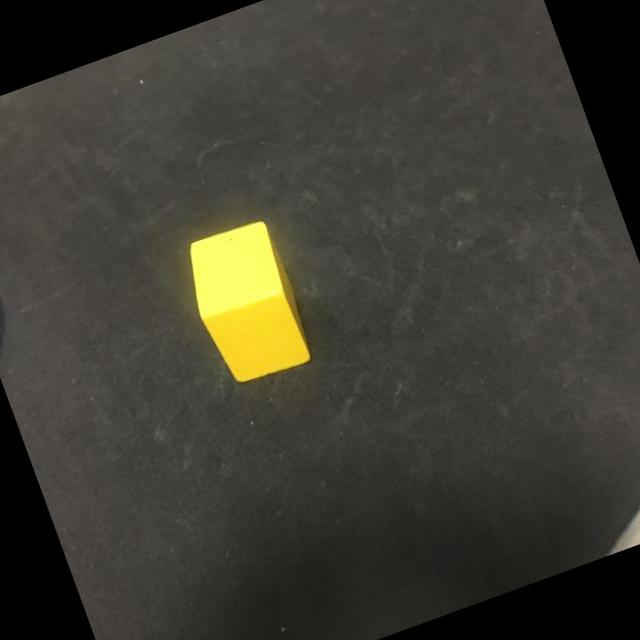yellow: (176, 216, 318, 391)
